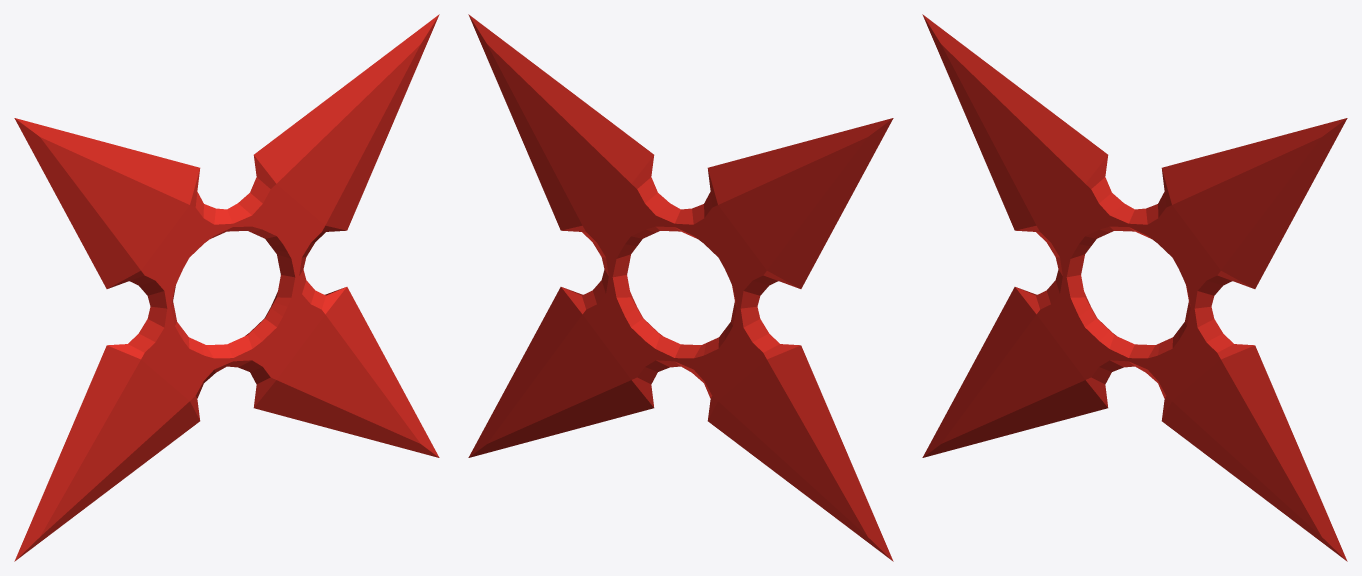
The model's file is ShurikenModel.fbx.
3 renders of one model, left to right at view 1: azimuth 30°, elevation 25°; view 2: azimuth 150°, elevation 25°; view 3: azimuth 330°, elevation 25°, orthographic.
Visible parts, largest first — view 1: Circle; view 2: Circle; view 3: Circle.
Boxes of the visible parts, bbox=[...] form: Circle: bbox=[14, 14, 439, 561]; Circle: bbox=[468, 14, 893, 561]; Circle: bbox=[922, 14, 1347, 561].
Bounding box in the file's own units: 246 × 246 × 12.48.
